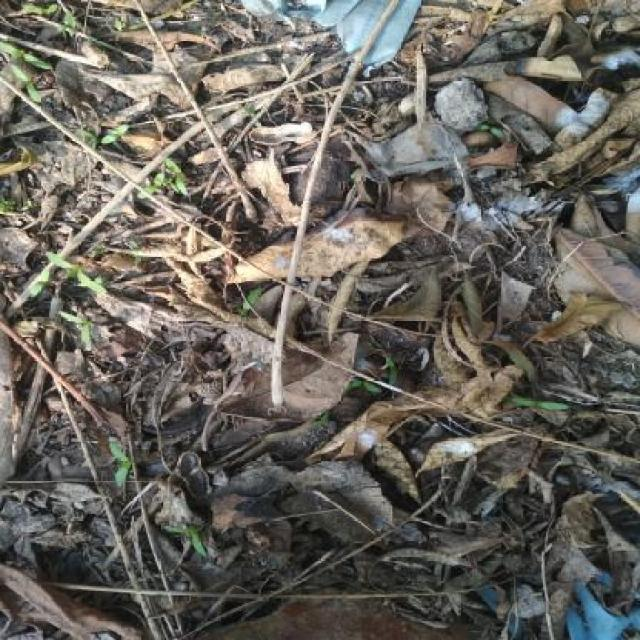garbage: (45, 6, 640, 638)
